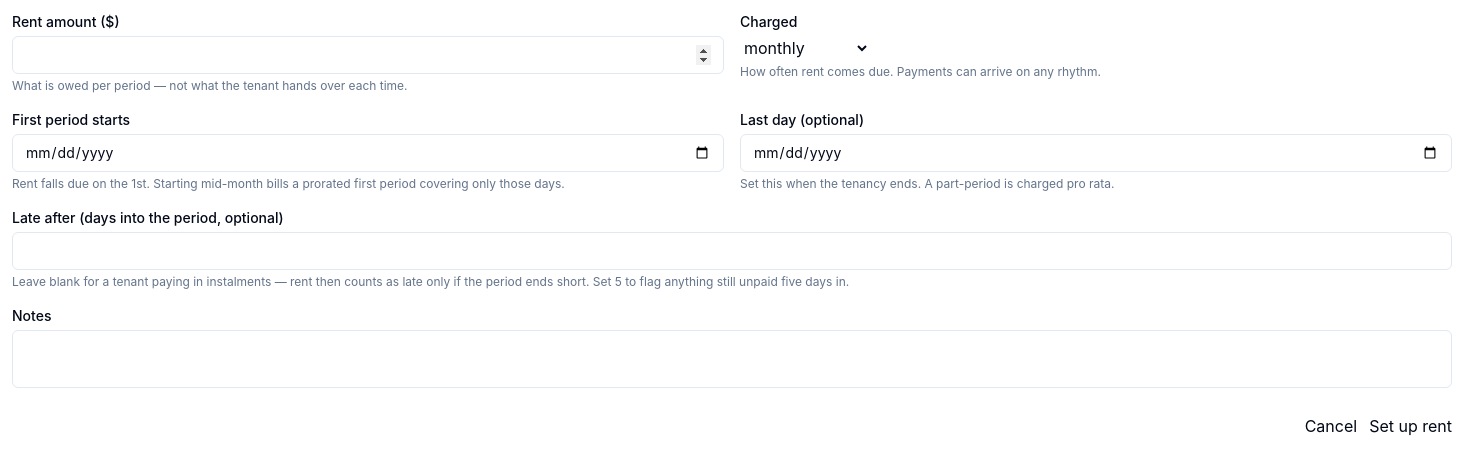
RentScheduleForm › describes weekly periods as tiling from the start day, not the calendar
Select "weekly" in the dropdown with test id "rent-schedule-cadence" at {"x": 805, "y": 48}, box [740, 37, 870, 59]
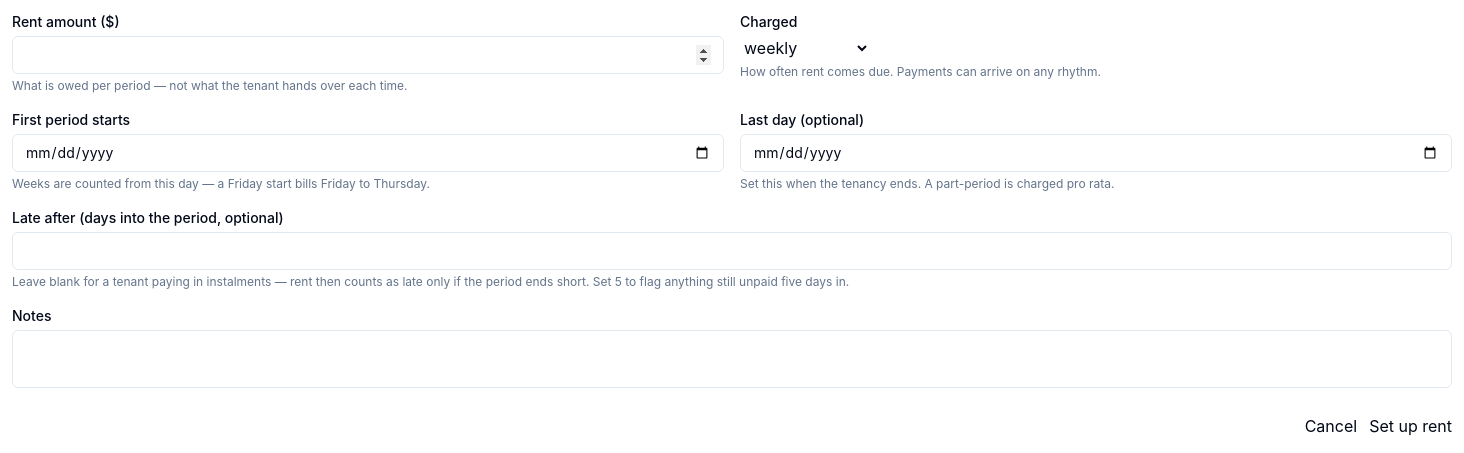
Check: the text with test id "rent-schedule-start-hint" shows "Weeks are counted from this day", box [12, 176, 430, 191]
